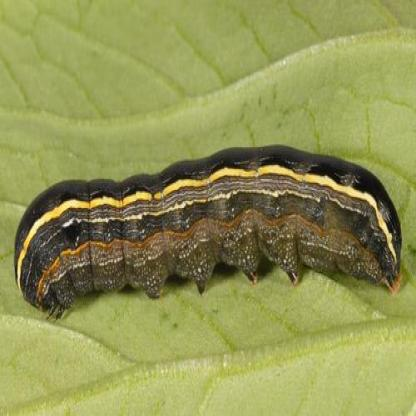armyworm: (10, 135, 405, 318)
